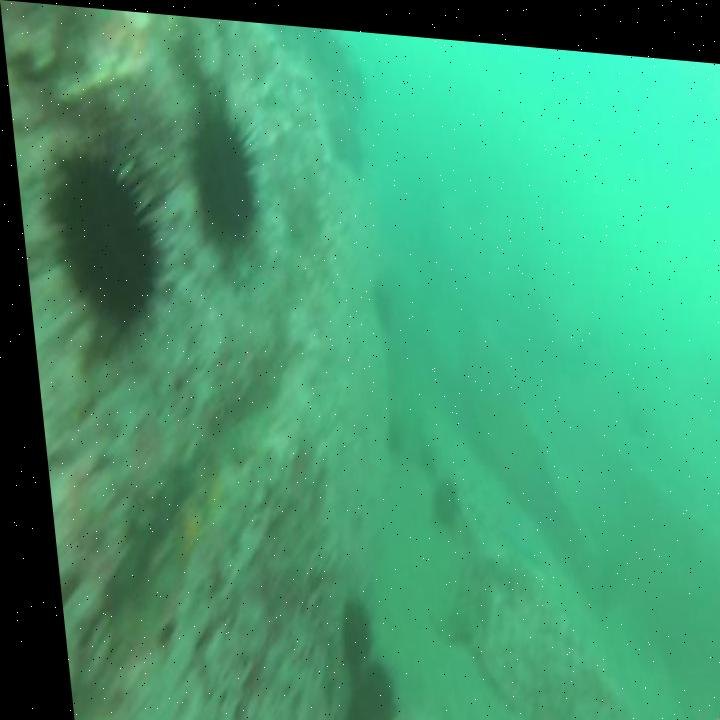echinus: (49, 164, 156, 317), (186, 112, 254, 241), (331, 654, 381, 720), (329, 590, 360, 660), (419, 468, 450, 521)
